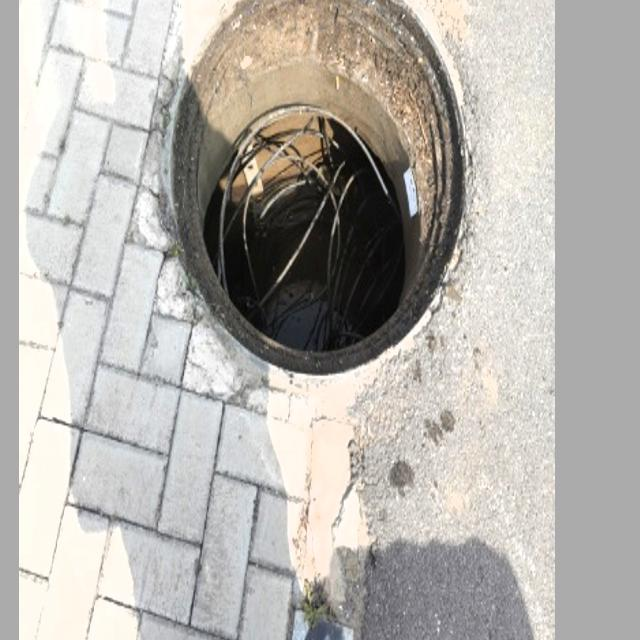lose: (162, 0, 475, 388)
